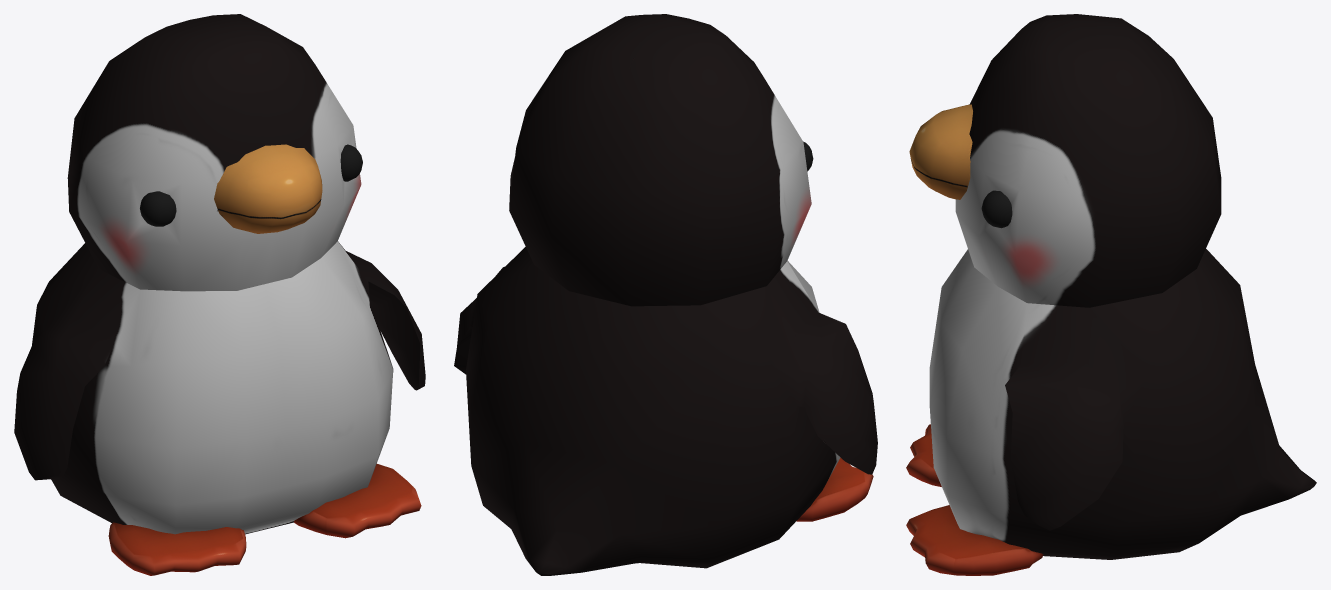
File: penguin.glb
3 views of the same model, side by side, from view 1: azimuth 30°, elevation 25°; view 2: azimuth 150°, elevation 25°; view 3: azimuth 270°, elevation 25° (orthographic). The views are drawn at different scales.
Visible parts, largest first — view 1: Box001; view 2: Box001; view 3: Box001.
Boxes of the visible parts, x1,y1,x2,y2 form: Box001: [14, 14, 425, 575]; Box001: [454, 14, 877, 575]; Box001: [906, 14, 1316, 575].
Size of the model in its own units: 2.1 by 2.43 by 1.87.
1 material, 1 textured.
